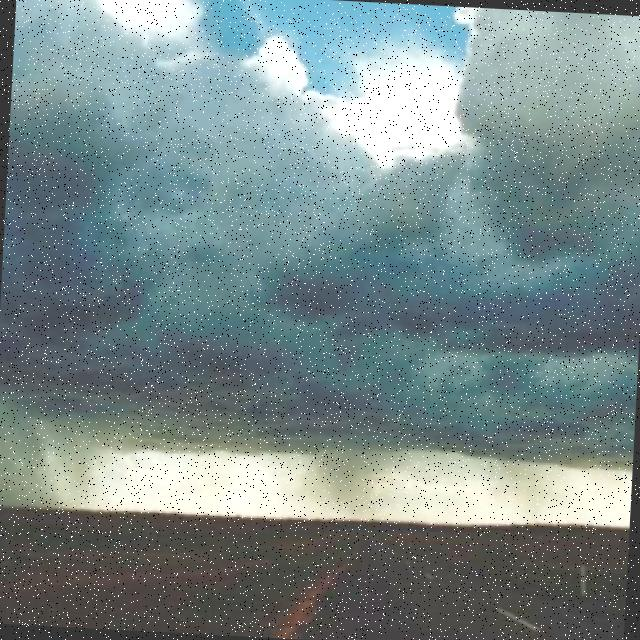Cb: (3, 1, 640, 494)
